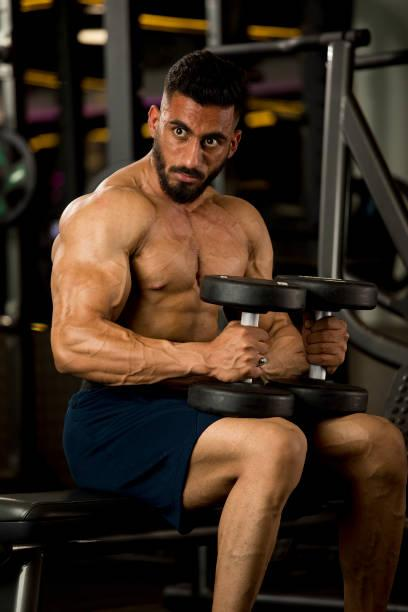no_helmet: (160, 44, 236, 154)
none: (104, 176, 296, 393)
